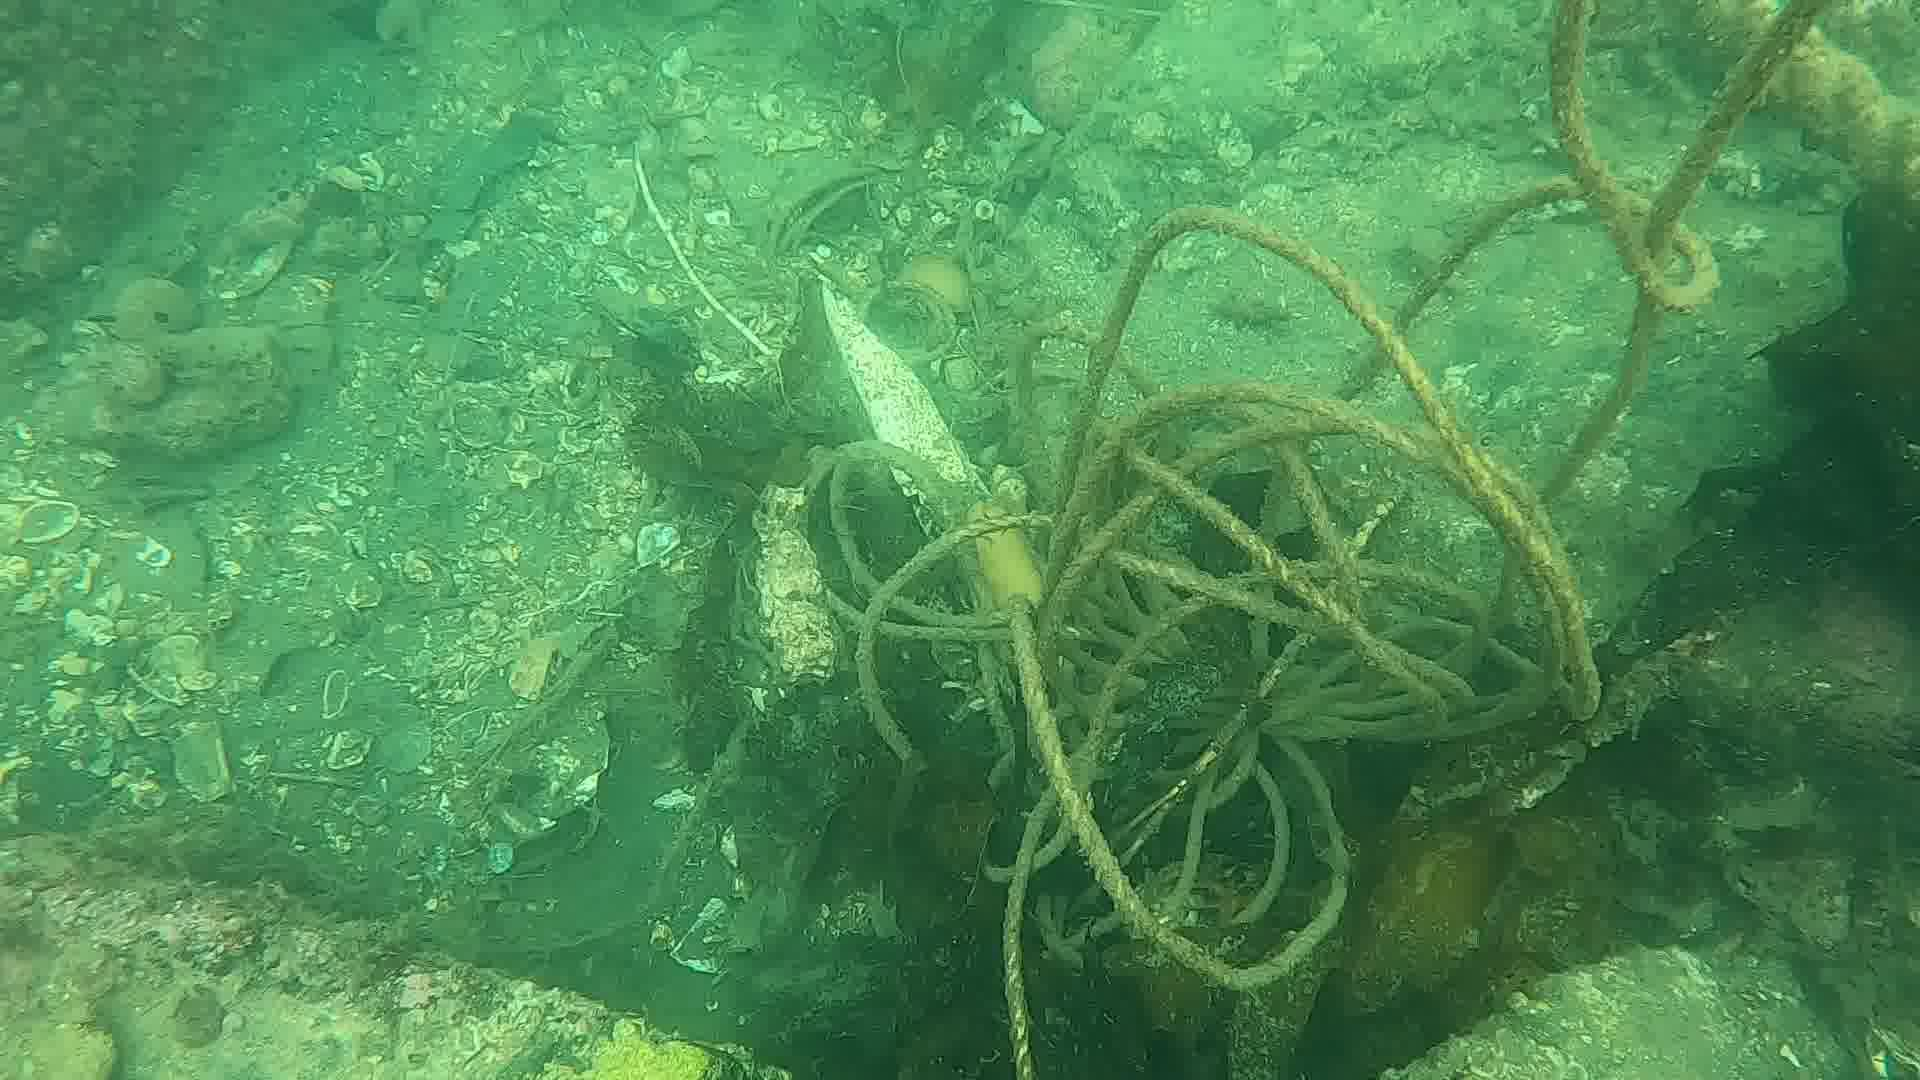bundle of ropes: (793, 0, 1830, 1080)
